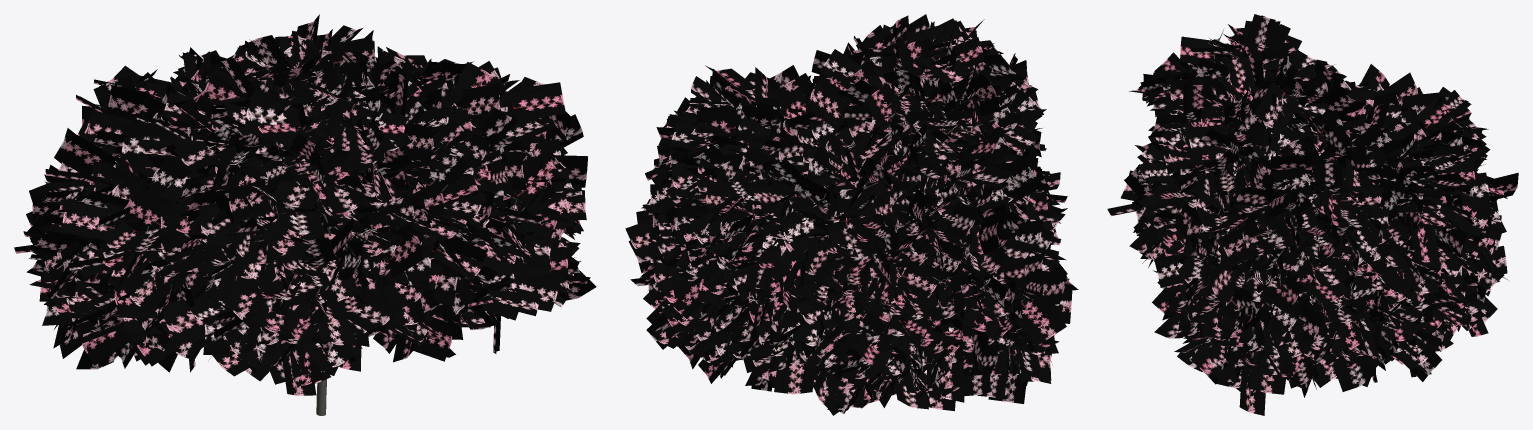
File: tree_14_red_maple.glb
3 views of the same model, side by side, from view 1: azimuth 30°, elevation 25°; view 2: azimuth 150°, elevation 25°; view 3: azimuth 270°, elevation 25° (orthographic). The views are drawn at different scales.
Visible parts, largest first — view 1: tree_14_red_maple.leaves; view 2: tree_14_red_maple.leaves; view 3: tree_14_red_maple.leaves.
Boxes of the visible parts, x1=… form: tree_14_red_maple.leaves: x1=14, y1=14, x2=596, y2=395; tree_14_red_maple.leaves: x1=625, y1=14, x2=1078, y2=415; tree_14_red_maple.leaves: x1=1107, y1=14, x2=1518, y2=415.
Size of the model in its own units: 11.36 by 8.37 by 9.68.
3 materials, 2 textured.
